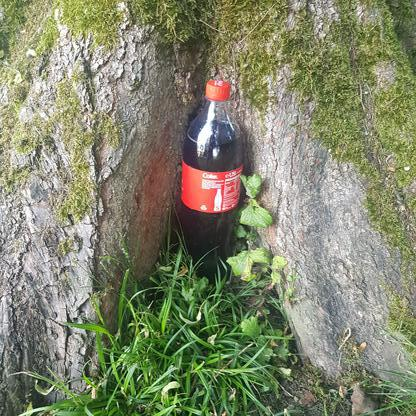coca-cola: (181, 78, 246, 288)
